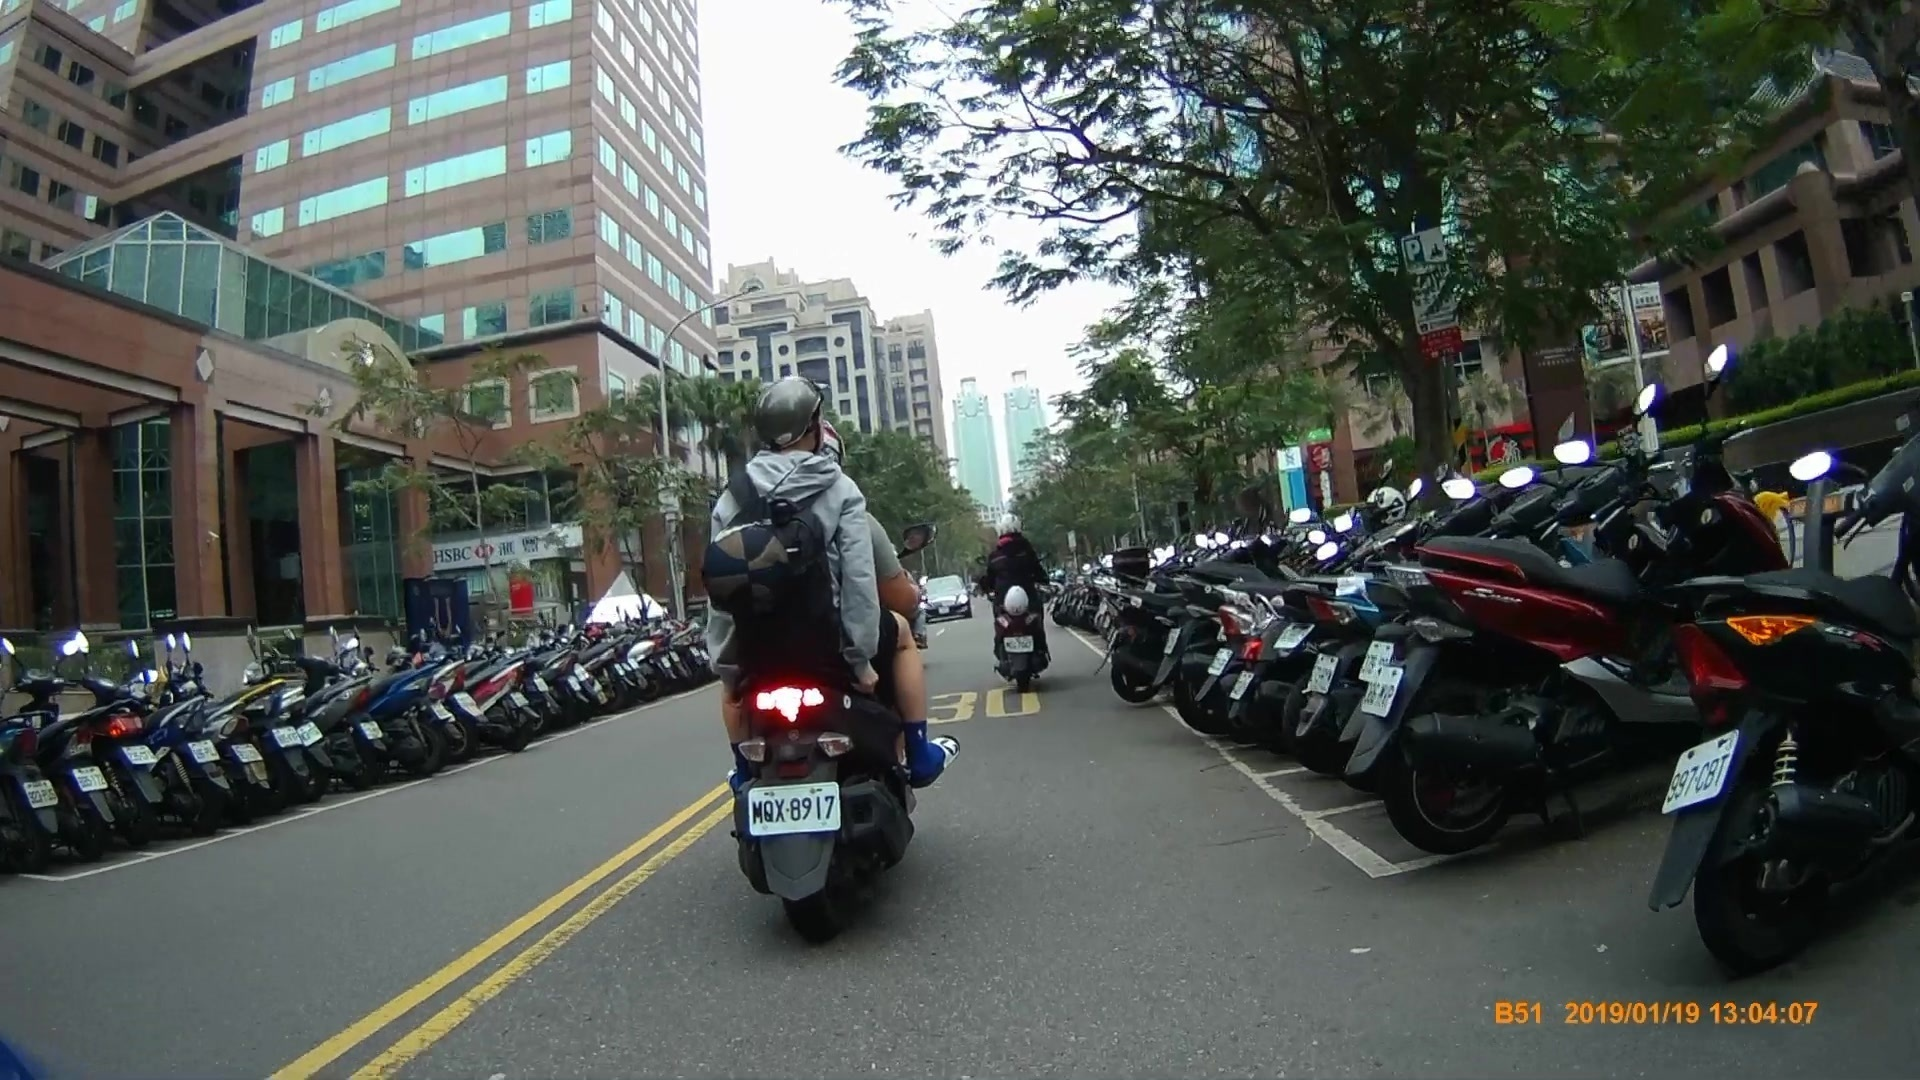License_plate: (742, 782, 847, 837), (1658, 731, 1729, 811), (1362, 666, 1403, 721), (15, 777, 64, 811), (71, 767, 110, 796), (120, 741, 161, 767), (1000, 633, 1039, 659)
